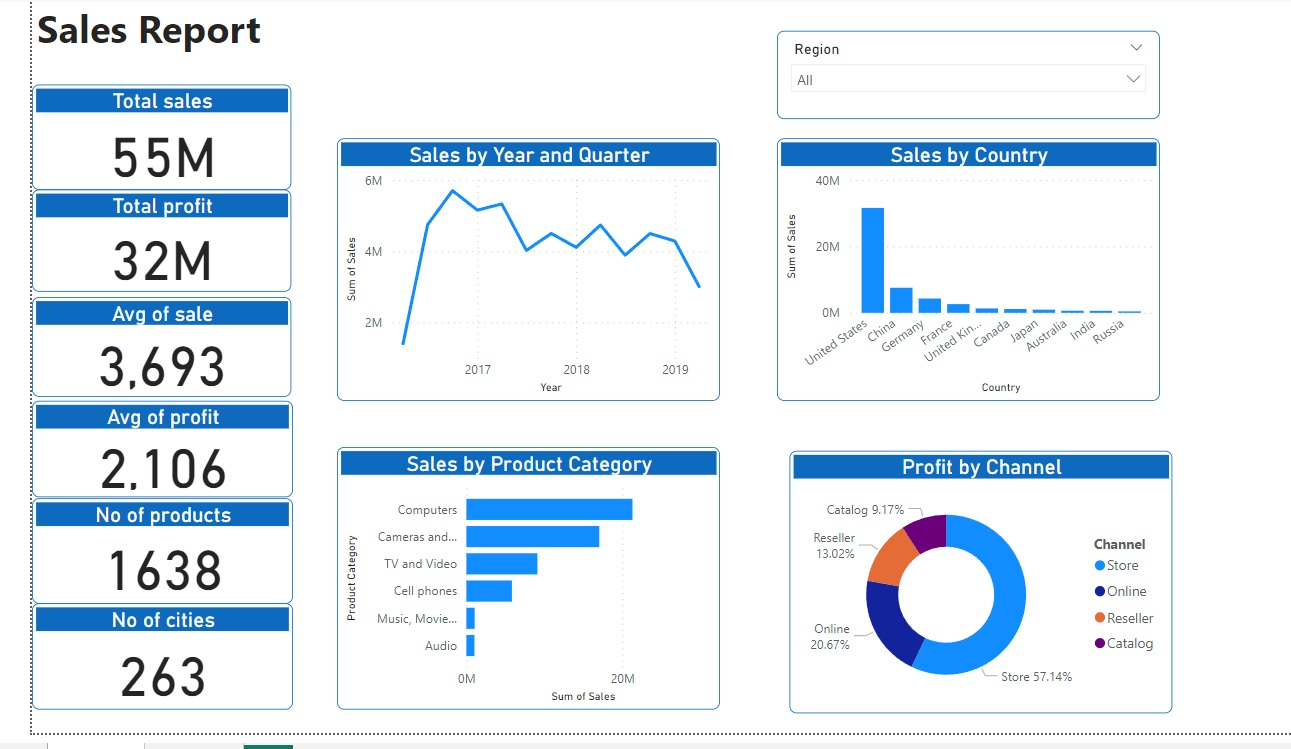

What the dashboard file says about the page in this screenshot:
{"tool":"powerbi","page":{"name":"Report","canvas":[1280,720],"ordinal":0},"visuals":[{"type":"card","title":"Total sales","fields":{"Values":["Sum(Data1.Sales)"]},"box":[0,85.1,253.9,102.9],"z":0},{"type":"card","title":"Avg of sale","fields":{"Values":["Avg(Data1.Sales)"]},"box":[0,293,253.9,97.4],"z":1000},{"type":"card","title":"Avg of profit","fields":{"Values":["Avg(Data1.Profit)"]},"box":[0,395.2,255.2,94.7],"z":2000},{"type":"card","title":"Total profit","fields":{"Values":["Sum(Data1.Profit)"]},"box":[0,188,253.9,100.2],"z":3000},{"type":"card","title":"No of products","fields":{"Values":["Count(Data1.Product Name)"]},"box":[0,489.9,255.2,102.9],"z":4000},{"type":"card","title":"No of cities","fields":{"Values":["Count(Data1.City)"]},"box":[0,592.8,255.2,104.3],"z":5000},{"type":"textbox","box":[0,0,321.1,64.5],"z":6000},{"type":"lineChart","title":"Sales by Year and Quarter","fields":{"Category":["Data1.Order Date.Variation.Date Hierarchy.Year","Data1.Order Date.Variation.Date Hierarchy.Quarter"],"Y":["Sum(Data1.Sales)"]},"box":[297.8,138.6,374.6,256.6],"z":7000},{"type":"barChart","title":"Sales by Product Category","fields":{"Y":["Sum(Data1.Sales)"],"Category":["Data1.Product Category"]},"box":[297.8,440.5,374.6,256.6],"z":8000},{"type":"clusteredColumnChart","title":"Sales by Country","fields":{"Category":["Data1.Country"],"Y":["Sum(Data1.Sales)"]},"box":[728.6,138.6,374.6,256.6],"z":9000},{"type":"donutChart","title":"Profit by Channel","fields":{"Y":["Sum(Data1.Profit)"],"Category":["Data1.Channel"]},"box":[741,443.2,374.6,256.6],"z":10000},{"type":"slicer","fields":{"Values":["Data1.Region"]},"box":[728.6,32.9,374.6,86.4],"z":11000}]}

Visuals, with their boxes on the page's 1280x720 design canvas (x1, y1, x2, y2). These are canvas units, not pixel positions in the 1291x749 screenshot, which may show the page scaled, cropped or inside an application window:
"Total sales" card: box(0, 85, 254, 188)
"Avg of sale" card: box(0, 293, 254, 390)
"Avg of profit" card: box(0, 395, 255, 490)
"Total profit" card: box(0, 188, 254, 288)
"No of products" card: box(0, 490, 255, 593)
"No of cities" card: box(0, 593, 255, 697)
textbox: box(0, 0, 321, 64)
"Sales by Year and Quarter" lineChart: box(298, 139, 672, 395)
"Sales by Product Category" barChart: box(298, 440, 672, 697)
"Sales by Country" clusteredColumnChart: box(729, 139, 1103, 395)
"Profit by Channel" donutChart: box(741, 443, 1116, 700)
slicer - Data1.Region: box(729, 33, 1103, 119)
